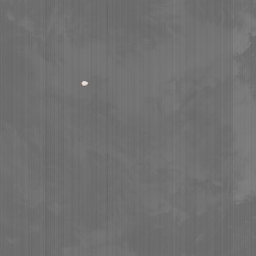Target: (80, 80, 90, 87)
